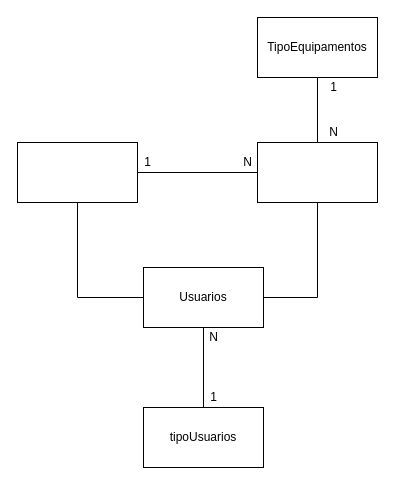
Some shapes in this 395 by 485 pixel diagram are drawn without their labels. Here are the shapes that lost their labels. From the top down, the centre of each, then its label:
the point at 77,172: Salas
the point at 317,172: Equipamentos
